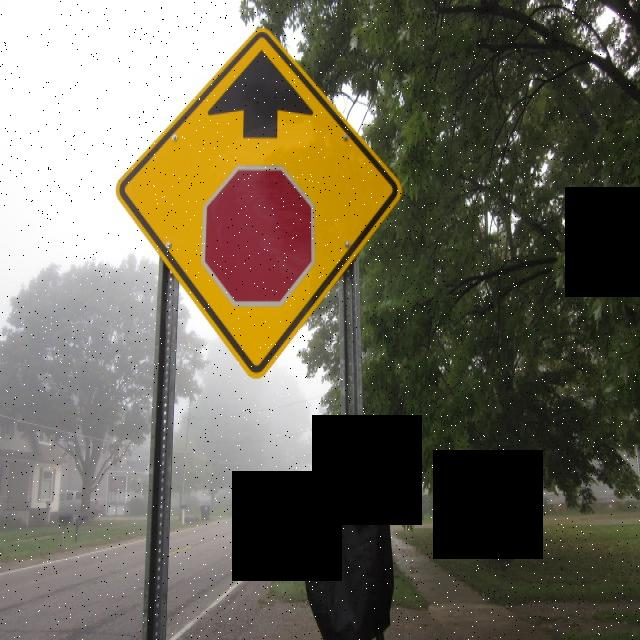stop: (198, 165, 318, 312)
warning: (109, 16, 409, 386)
